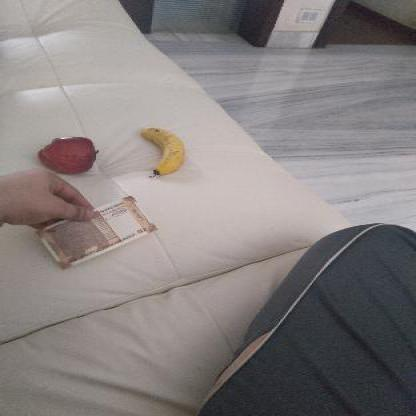New10Back: (42, 196, 155, 260)
